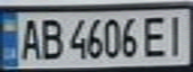0: (103, 15, 124, 60)
4: (66, 16, 87, 60)
6: (121, 13, 142, 60), (84, 16, 106, 60)
A: (15, 16, 42, 62)
B: (36, 16, 66, 61)
E: (139, 12, 172, 59)
I: (163, 11, 193, 57)
